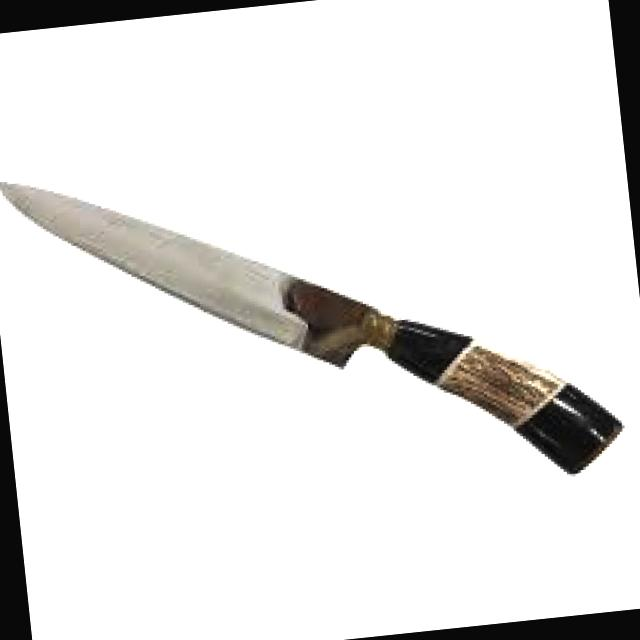knife: (0, 178, 623, 473)
